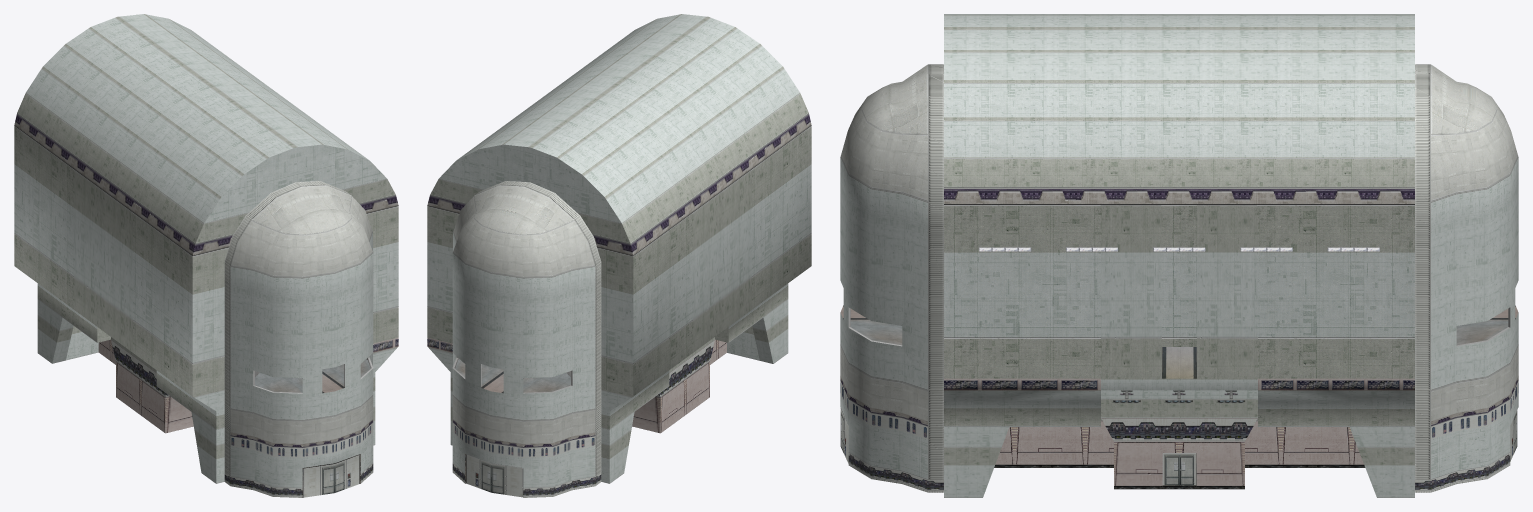
Rendered from bes2_bldg_mall.glb.
3 views of the same model, side by side, from view 1: azimuth 30°, elevation 25°; view 2: azimuth 150°, elevation 25°; view 3: azimuth 270°, elevation 25° (orthographic). The views are drawn at different scales.
Parts seen in each view (by area): view 1: mesh_part7, mesh_part8, mesh_part11, mesh_part9, mesh_part3; view 2: mesh_part7, mesh_part8, mesh_part11, mesh_part9, mesh_part3; view 3: mesh_part7, mesh_part8, mesh_part9, mesh_part11, mesh_part12, mesh_part3, mesh_part10, mesh_part4, mesh_part6.
Boxes of the visible parts, x1,y1,x2,y2 form: mesh_part7: (14, 14, 398, 488); mesh_part8: (111, 181, 373, 497); mesh_part11: (14, 113, 398, 497); mesh_part9: (98, 337, 398, 433); mesh_part3: (255, 359, 370, 392); mesh_part7: (427, 14, 811, 488); mesh_part8: (452, 181, 714, 497); mesh_part11: (427, 113, 811, 497); mesh_part9: (427, 337, 726, 433); mesh_part3: (455, 359, 570, 393); mesh_part7: (840, 14, 1518, 497); mesh_part8: (840, 64, 1518, 492); mesh_part9: (944, 378, 1414, 485); mesh_part11: (840, 187, 1518, 485); mesh_part12: (1101, 390, 1257, 410); mesh_part3: (850, 319, 1508, 345); mesh_part10: (994, 464, 1365, 489); mesh_part4: (840, 305, 1518, 378); mesh_part6: (979, 247, 1379, 251).
Bounding box in the file's own units: 36.07 × 52.95 × 77.72.
Materials: 12 (12 with a texture image).
